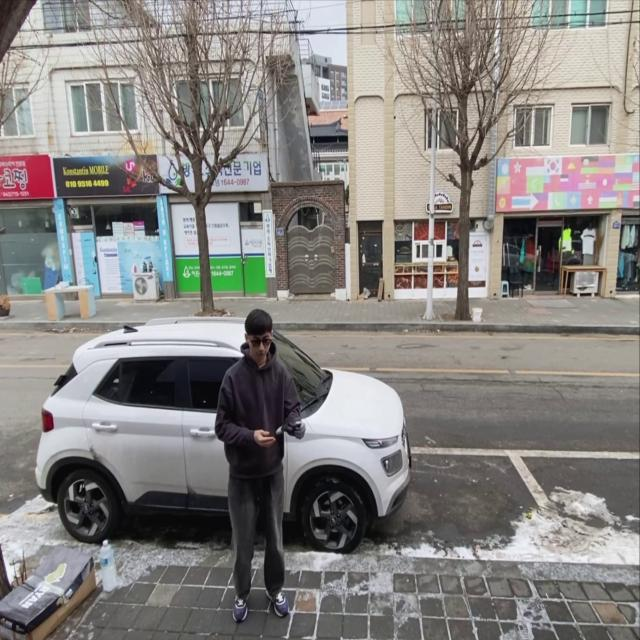bare_hand: (252, 427, 280, 451)
gloved_hand: (285, 417, 312, 442)
